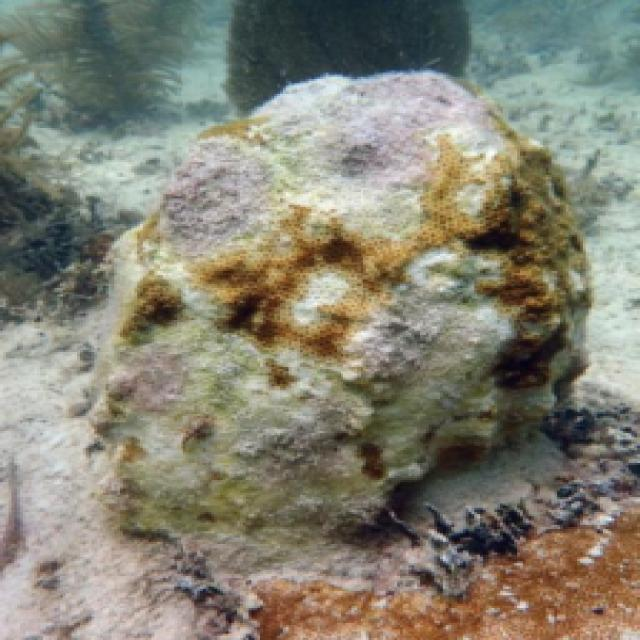Coral: (51, 68, 570, 541), (249, 495, 640, 640)
